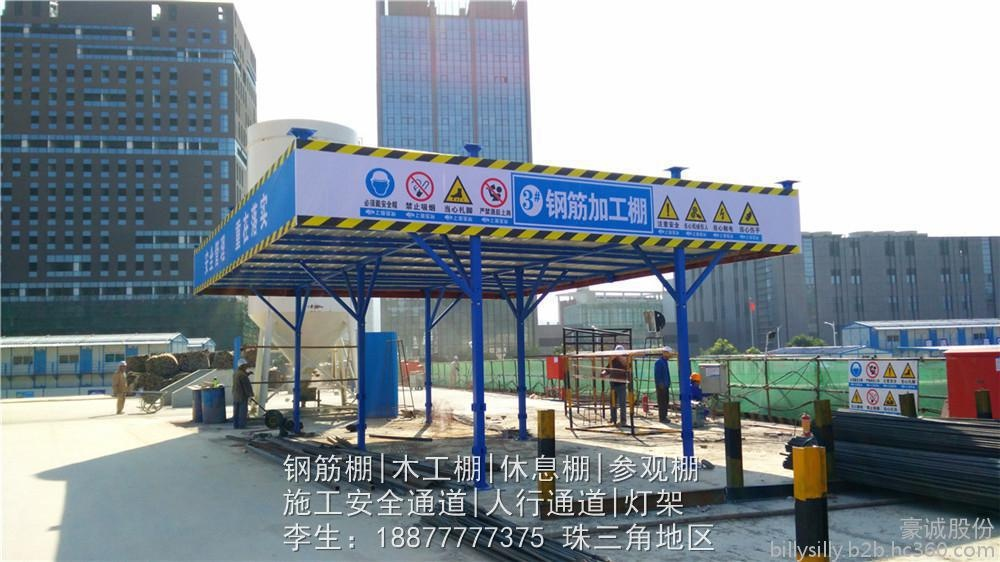white: (661, 346, 673, 360), (236, 357, 248, 371), (117, 360, 127, 372)
yellow: (688, 371, 702, 386)
